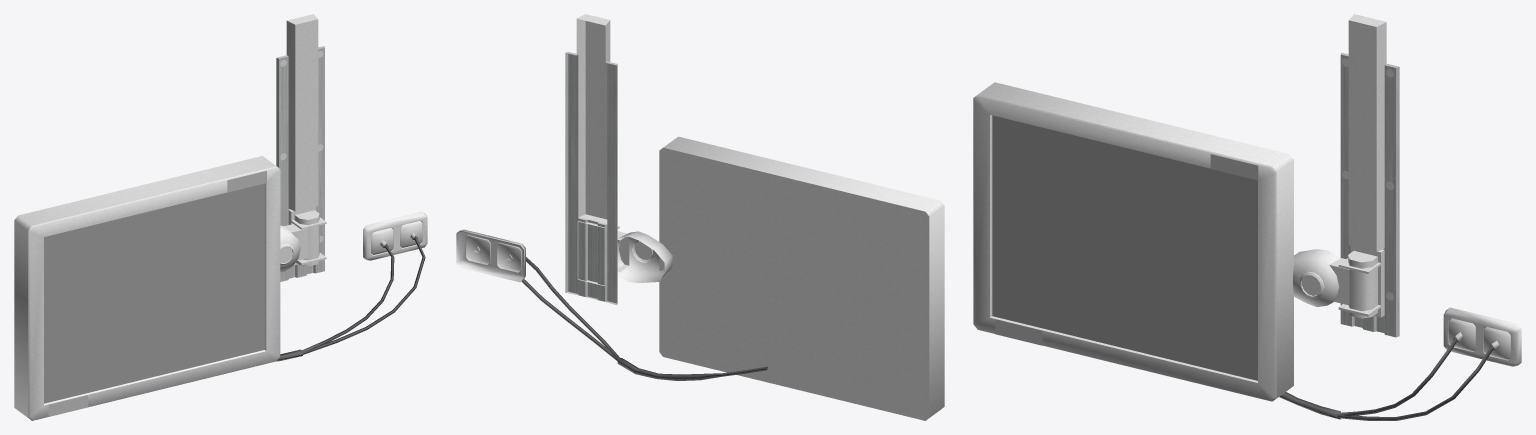
Rendered from Screen_Microscope.fbx.
3 views of the same model, side by side, from view 1: azimuth 30°, elevation 25°; view 2: azimuth 150°, elevation 25°; view 3: azimuth 330°, elevation 25° (orthographic). The views are drawn at different scales.
Parts seen in each view (by area): view 1: Screen_Microscope; view 2: Screen_Microscope; view 3: Screen_Microscope.
Boxes of the visible parts, x1,y1,x2,y2 form: Screen_Microscope: [14, 14, 427, 420]; Screen_Microscope: [456, 14, 944, 420]; Screen_Microscope: [973, 14, 1521, 420].
Size of the model in its own units: 93.21 by 68.65 by 11.31.
